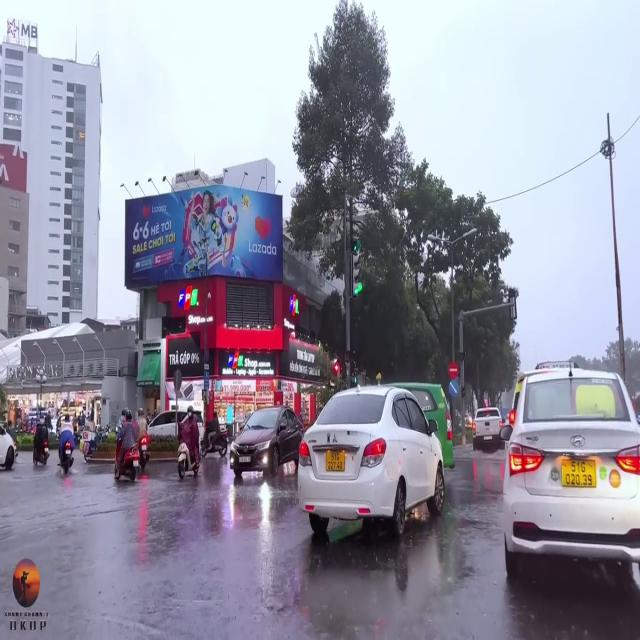bien_vang: (562, 454, 597, 492), (324, 451, 350, 475)
